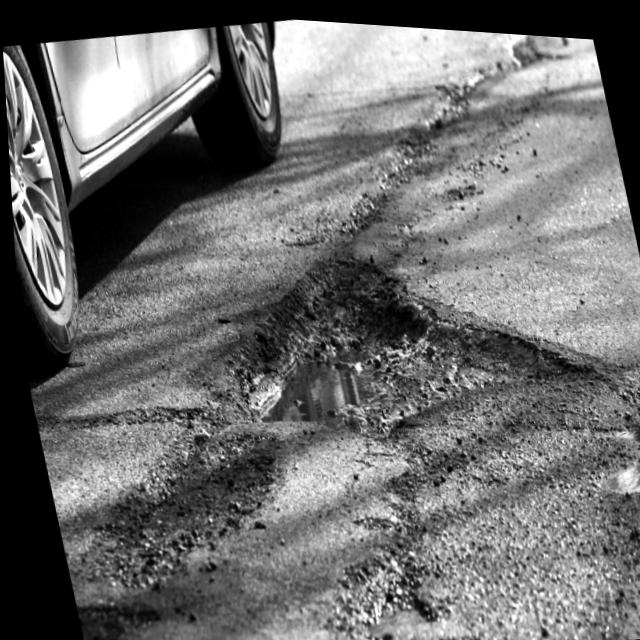pathole: (221, 255, 441, 478), (322, 550, 435, 640), (186, 416, 249, 489), (601, 417, 640, 484)
